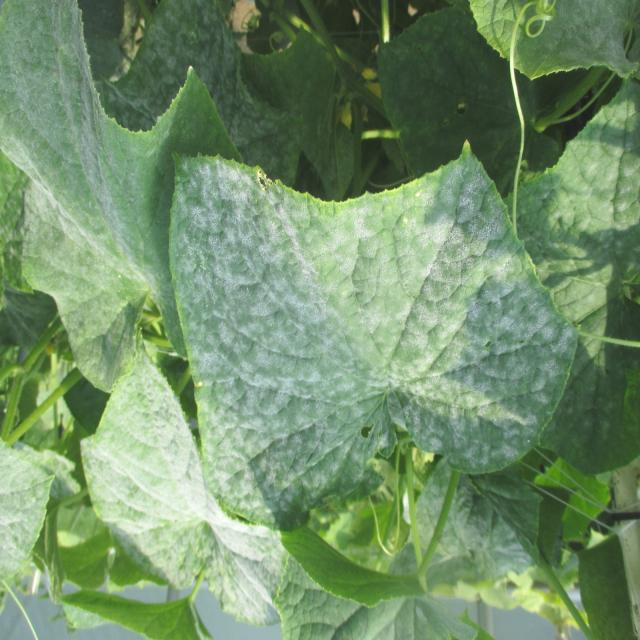Powdery Mildew: (166, 139, 578, 529)
